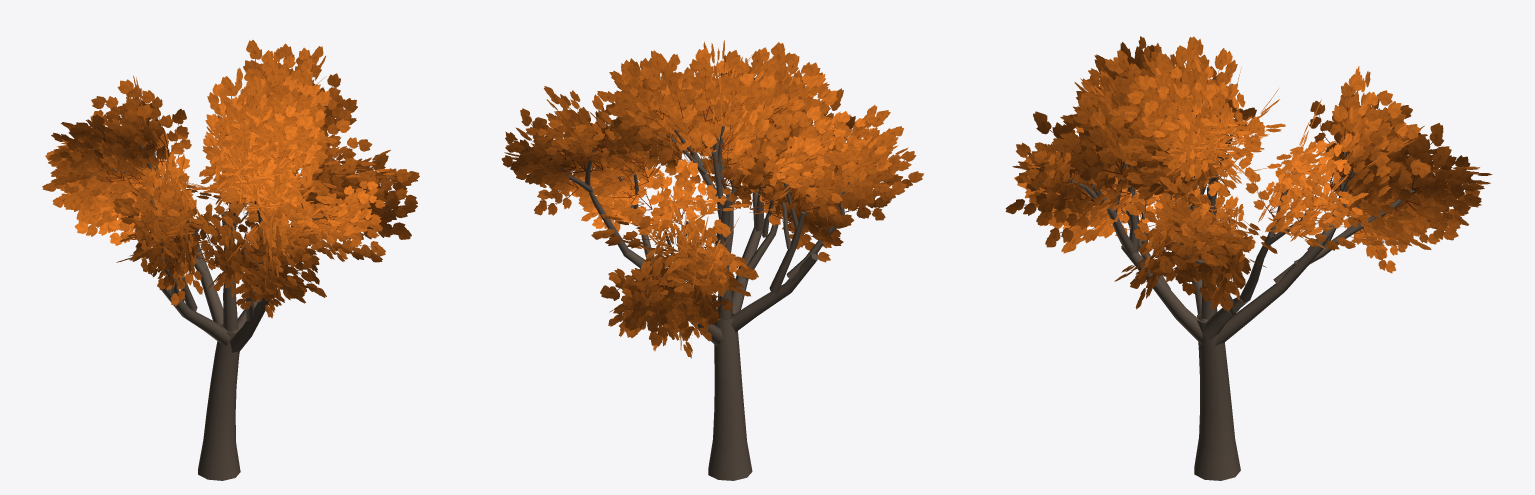
Rendered from maple_autumn_1_burnt1.glb.
The picture shows the model from 3 angles, left to right: view 1: azimuth 30°, elevation 25°; view 2: azimuth 150°, elevation 25°; view 3: azimuth 270°, elevation 25°; orthographic projection. The views are drawn at different scales.
Parts seen in each view (by area): view 1: maple_autumn_1_burnt1; view 2: maple_autumn_1_burnt1; view 3: maple_autumn_1_burnt1.
Part boxes in pixels (left/top/right/bottom): maple_autumn_1_burnt1: left=42, top=40, right=419, bottom=480; maple_autumn_1_burnt1: left=501, top=40, right=923, bottom=480; maple_autumn_1_burnt1: left=1005, top=36, right=1492, bottom=480.
Bounding box in the file's own units: 8.26 × 9.33 × 9.8.
Materials: 2 (1 with a texture image).
